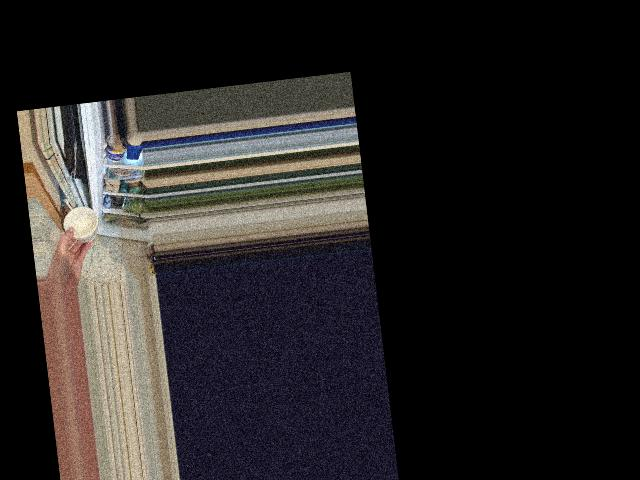cotage: (65, 206, 99, 242)
